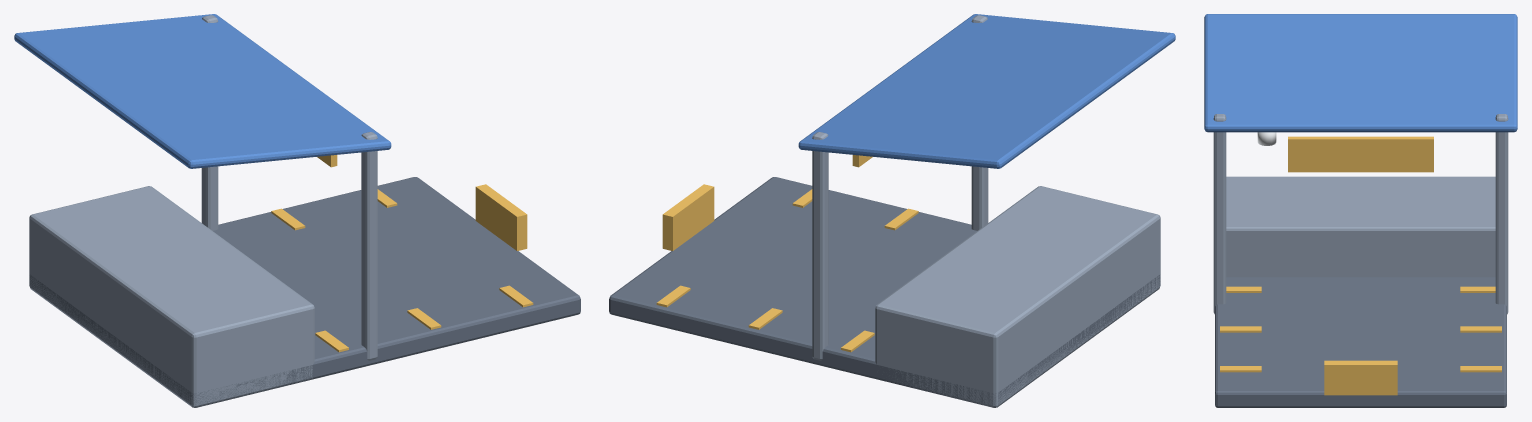
The model's file is recepcion.glb.
3 renders of one model, left to right at view 1: azimuth 30°, elevation 25°; view 2: azimuth 150°, elevation 25°; view 3: azimuth 270°, elevation 25°, orthographic. The views are drawn at different scales.
Visible parts, largest first — view 1: anden, losa, tejado, pilar_-1, puerto_salida, pilar_+1; view 2: losa, anden, tejado, pilar_+1, puerto_salida, pilar_-1; view 3: tejado, losa, anden, rotulo, puerto_salida, pilar_+1, pilar_-1, raya_1, raya_2, raya_4, raya_5.
Part boxes in pixels (bbox=[...]): anden: bbox=[29, 186, 314, 407]; losa: bbox=[29, 177, 580, 407]; tejado: bbox=[14, 14, 391, 168]; pilar_-1: bbox=[361, 132, 377, 360]; puerto_salida: bbox=[475, 184, 527, 250]; pilar_+1: bbox=[201, 15, 218, 230]; losa: bbox=[609, 177, 1160, 407]; anden: bbox=[875, 186, 1160, 407]; tejado: bbox=[798, 14, 1175, 168]; pilar_+1: bbox=[812, 132, 828, 360]; puerto_salida: bbox=[662, 184, 714, 250]; pilar_-1: bbox=[971, 15, 988, 230]; tejado: bbox=[1204, 14, 1517, 132]; losa: bbox=[1215, 277, 1506, 407]; anden: bbox=[1226, 176, 1495, 277]; rotulo: bbox=[1288, 136, 1433, 172]; puerto_salida: bbox=[1324, 360, 1397, 395]; pilar_+1: bbox=[1495, 114, 1508, 314]; pilar_-1: bbox=[1213, 114, 1226, 314]; raya_1: bbox=[1220, 326, 1261, 332]; raya_2: bbox=[1220, 366, 1261, 372]; raya_4: bbox=[1460, 326, 1501, 332]; raya_5: bbox=[1460, 366, 1501, 372].
Bounding box in the file's own units: 3.96 × 2.37 × 3.
